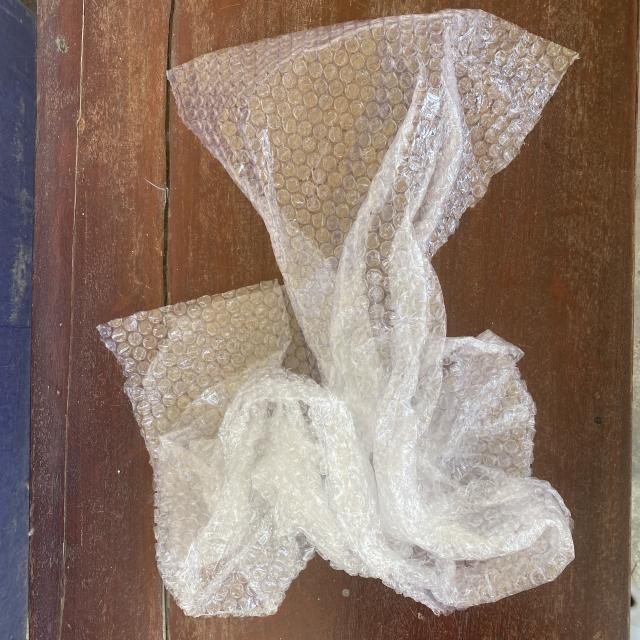Single-layer Plastic: (97, 10, 583, 621)
